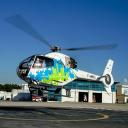helicopter: (5, 15, 121, 102)
